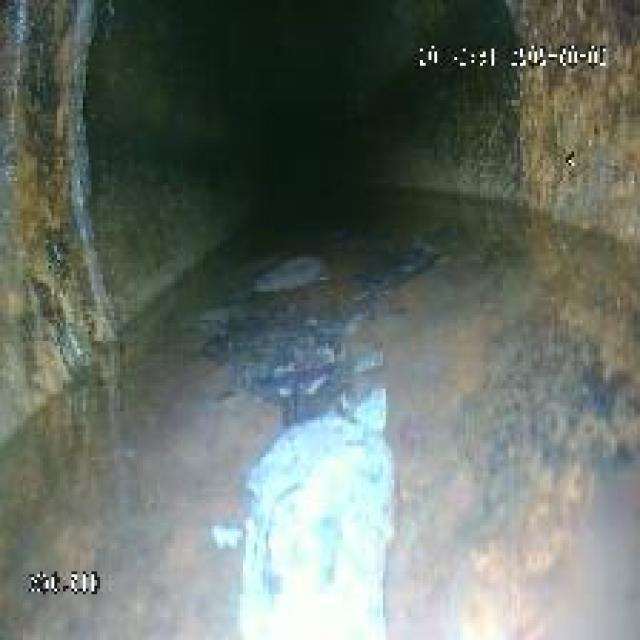stone: (263, 286, 426, 511)
